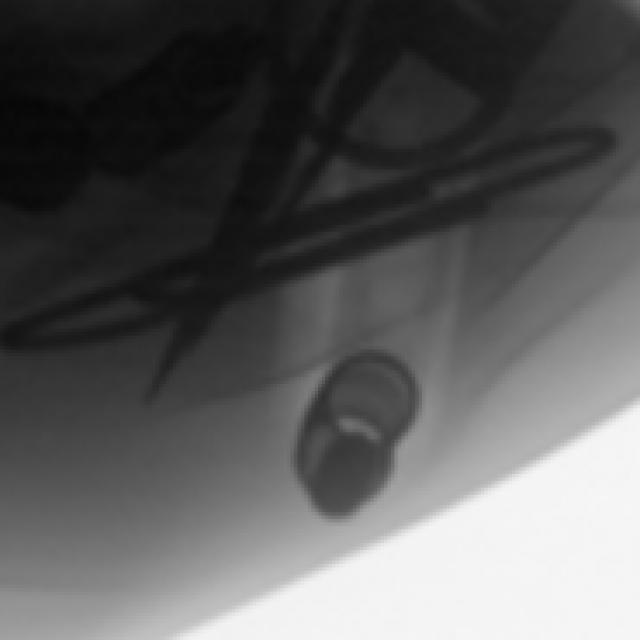SCREW: (138, 182, 286, 386)
